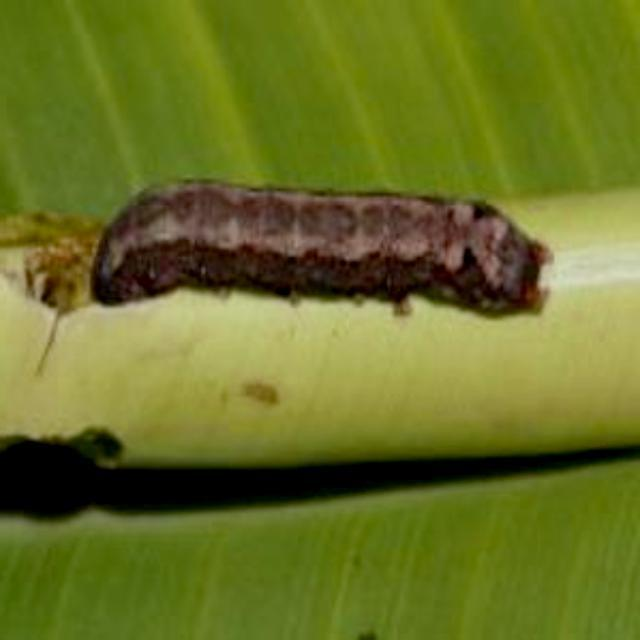Tobacco cutworm: (35, 116, 587, 426)
